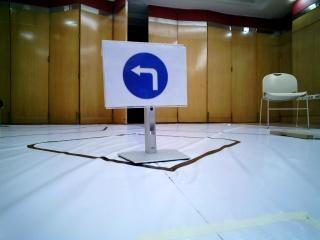left: (105, 42, 179, 104)
